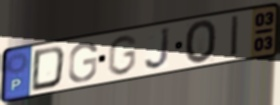D: (29, 44, 68, 94)
G: (105, 34, 139, 77), (66, 40, 99, 83)
I: (230, 13, 241, 59)
J: (143, 25, 172, 71)
O: (184, 19, 218, 67)
